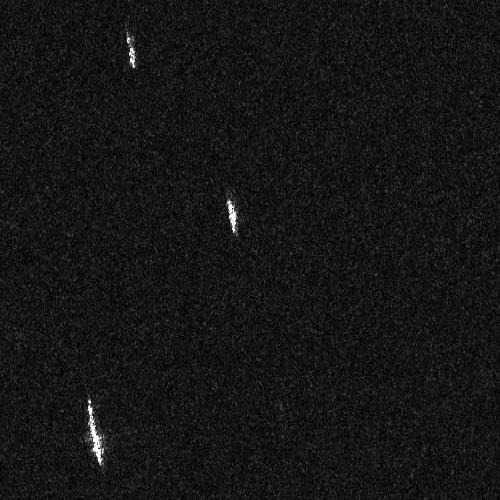ship: (86, 397, 105, 468), (225, 197, 238, 234), (126, 31, 137, 70)
